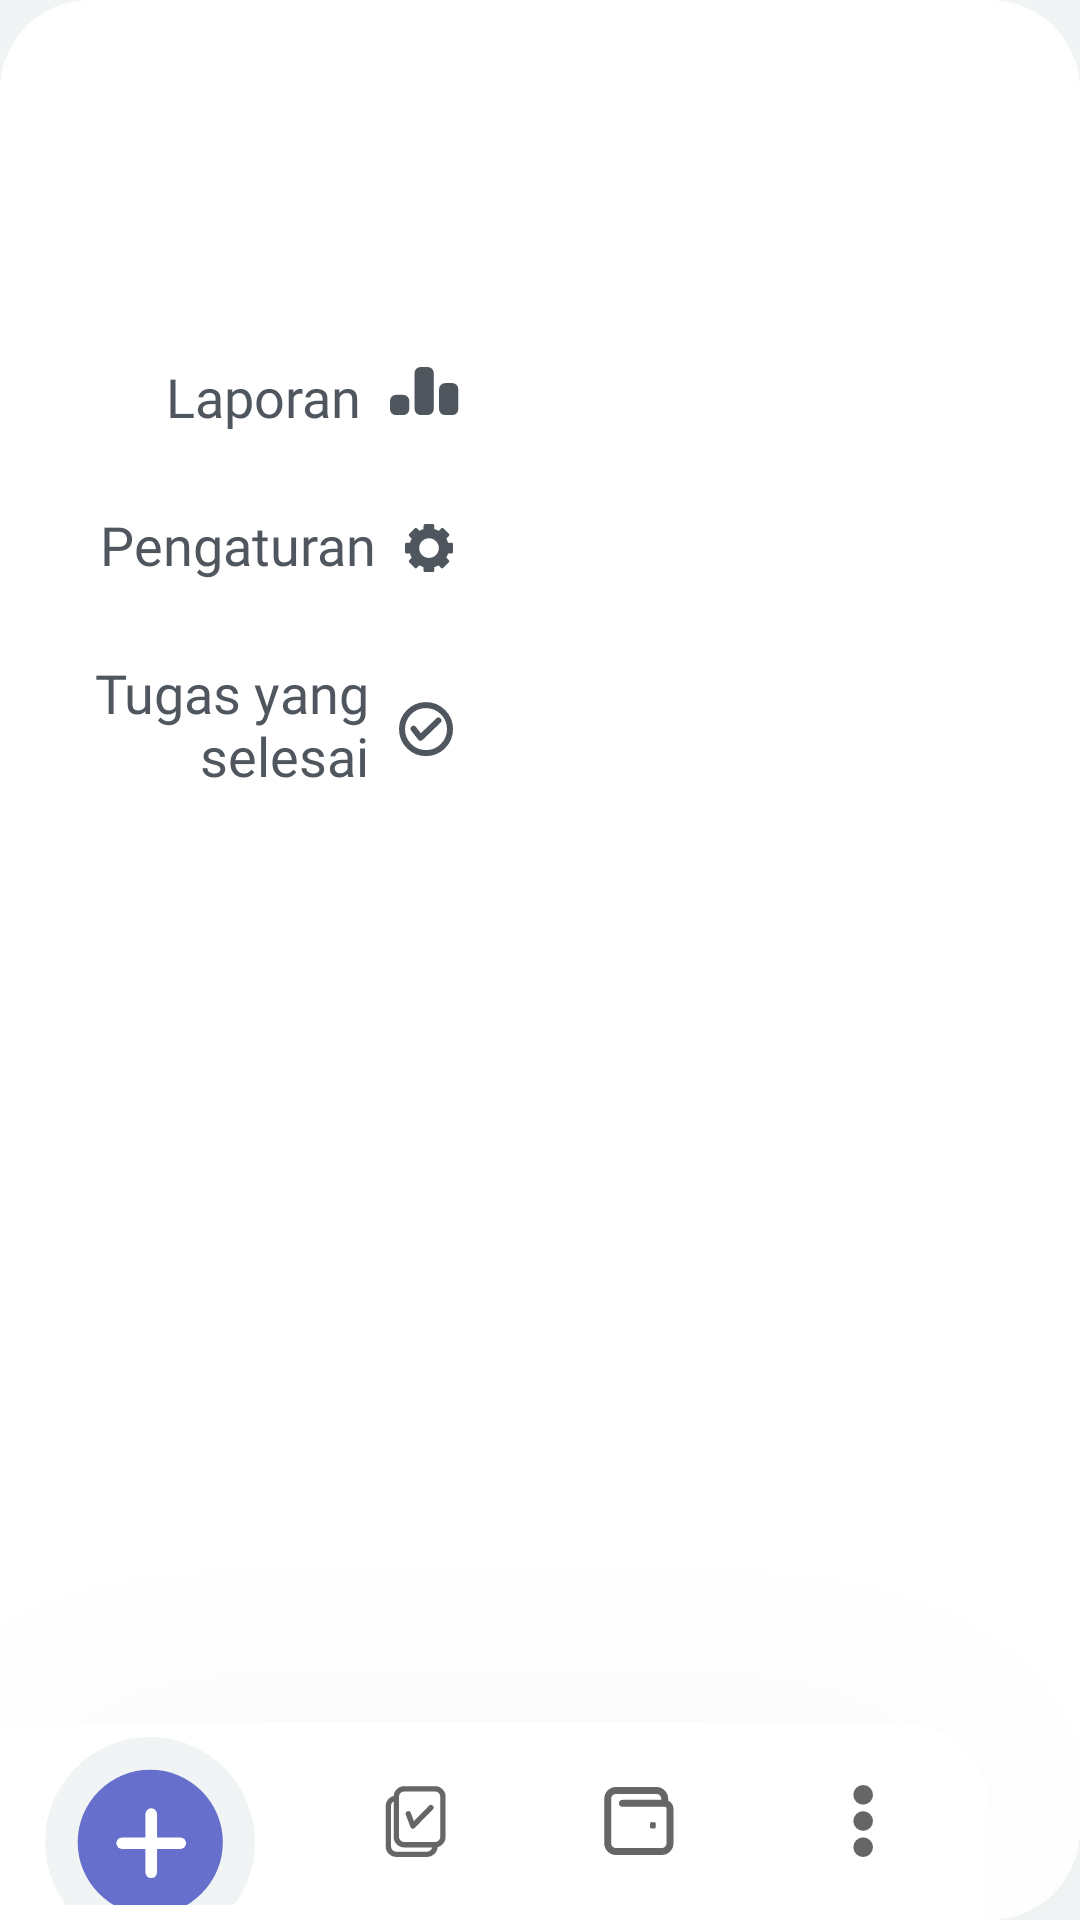

Locate icon controls on the screen. Image size 1080w x 1920h, boxes as (x1, y1, x2, y2).
complete: (399, 702, 453, 756)
report: (390, 367, 459, 415)
setting: (405, 524, 453, 572)
